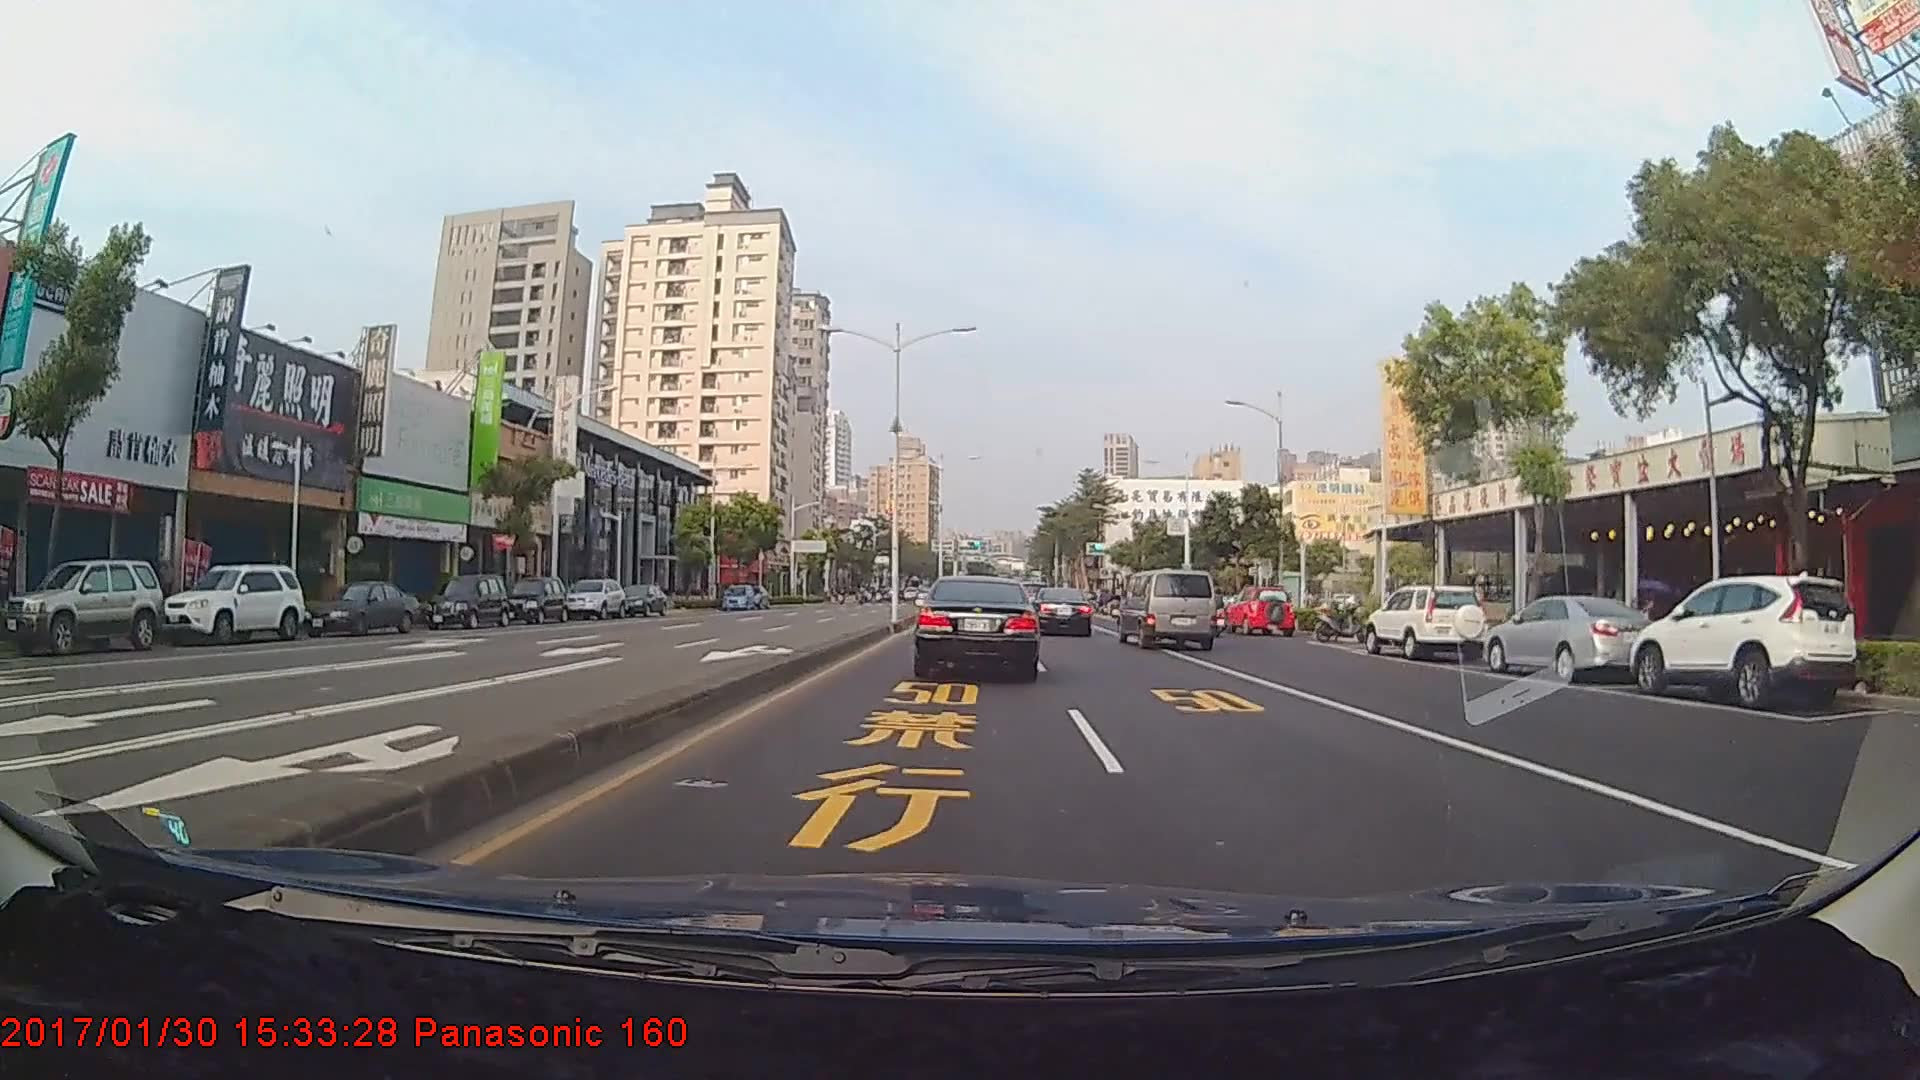vehicle: (1626, 574, 1859, 703), (1481, 591, 1658, 683), (0, 556, 164, 655), (913, 576, 1040, 682), (160, 562, 305, 644), (1364, 582, 1487, 659), (1120, 568, 1216, 650), (295, 578, 421, 640), (419, 572, 508, 626), (500, 576, 568, 626), (1226, 585, 1292, 636), (1031, 585, 1095, 637), (562, 578, 626, 621), (616, 583, 667, 616), (719, 582, 752, 611)
